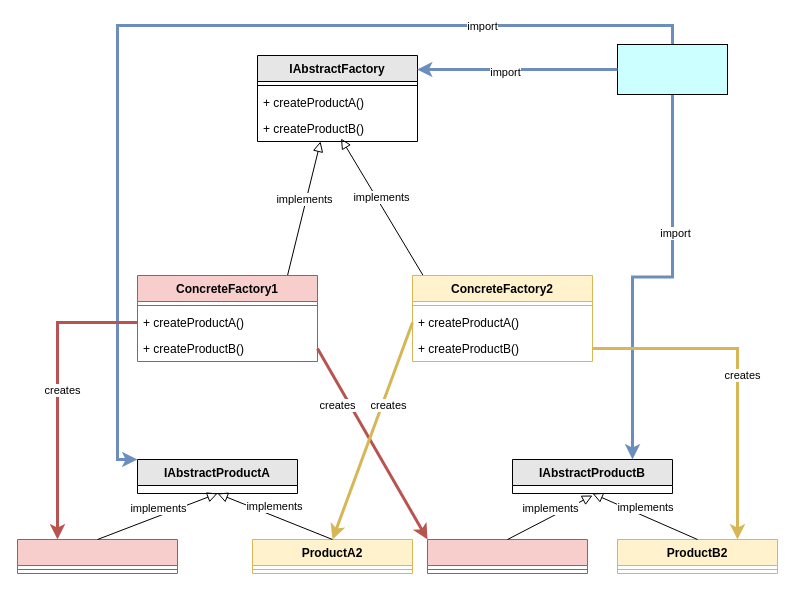
The diagram is 795 pixels wide and 591 high, and some of its shapes have lost their labels. The shapes that lost their labels are listed below. From the top down, each one's centre as x and y in pixels, then its label:
the point at 672,69: Client
the point at 97,556: ProductA1
the point at 507,556: ProductB1
